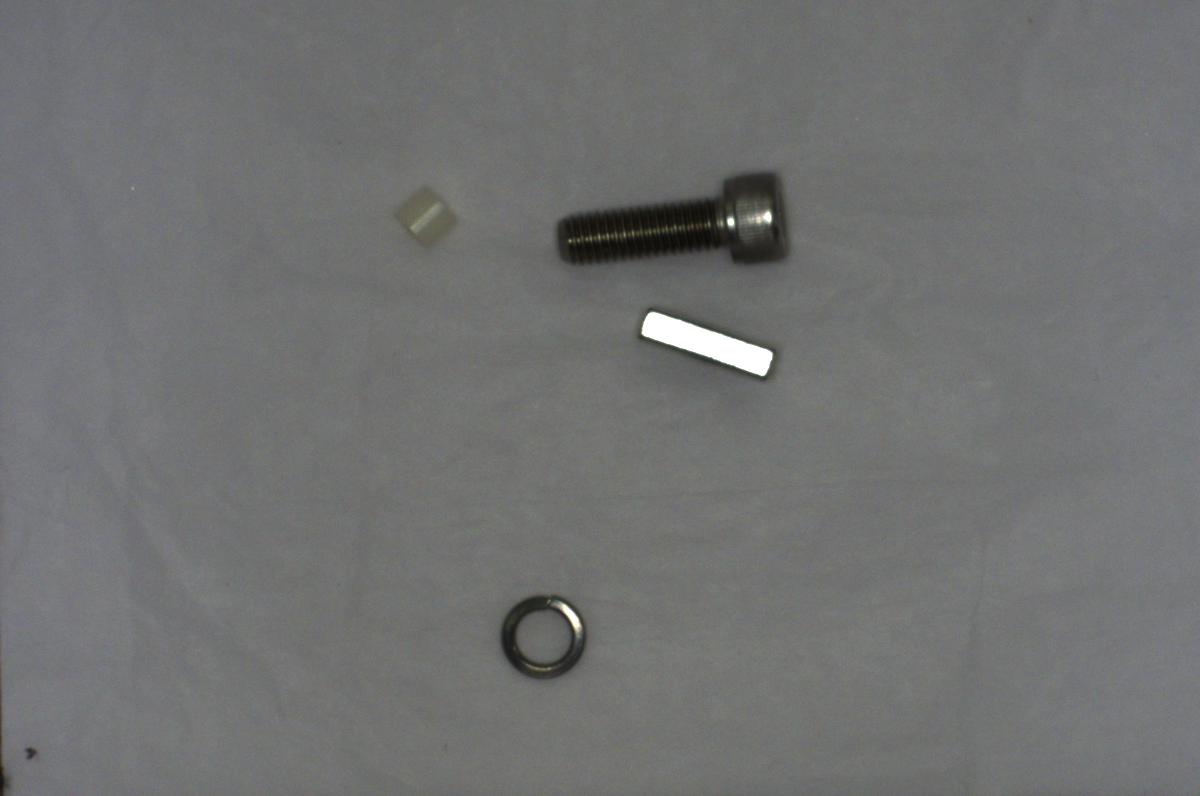Hexagon screw: (553, 166, 794, 282)
Plastic cushion pillar: (391, 180, 466, 250)
Rectangular nut: (627, 301, 779, 383)
Spring washer: (487, 576, 592, 685)
